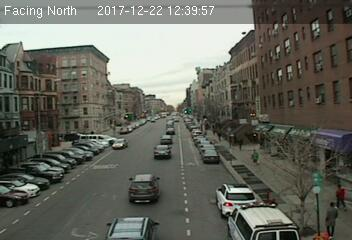car: (216, 184, 257, 216), (127, 171, 162, 204), (151, 143, 174, 159), (201, 148, 219, 162), (111, 138, 129, 150), (158, 134, 173, 143)
pedestrian: (325, 200, 337, 239), (334, 184, 348, 211)
police: (224, 202, 301, 240)
